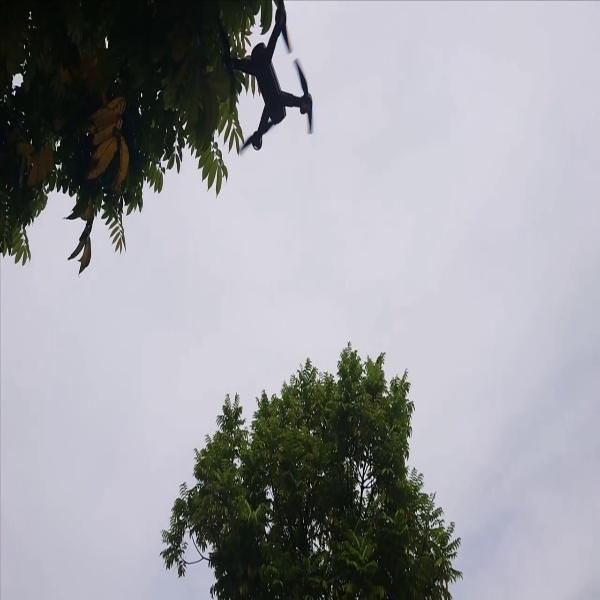drone: (198, 7, 324, 165)
